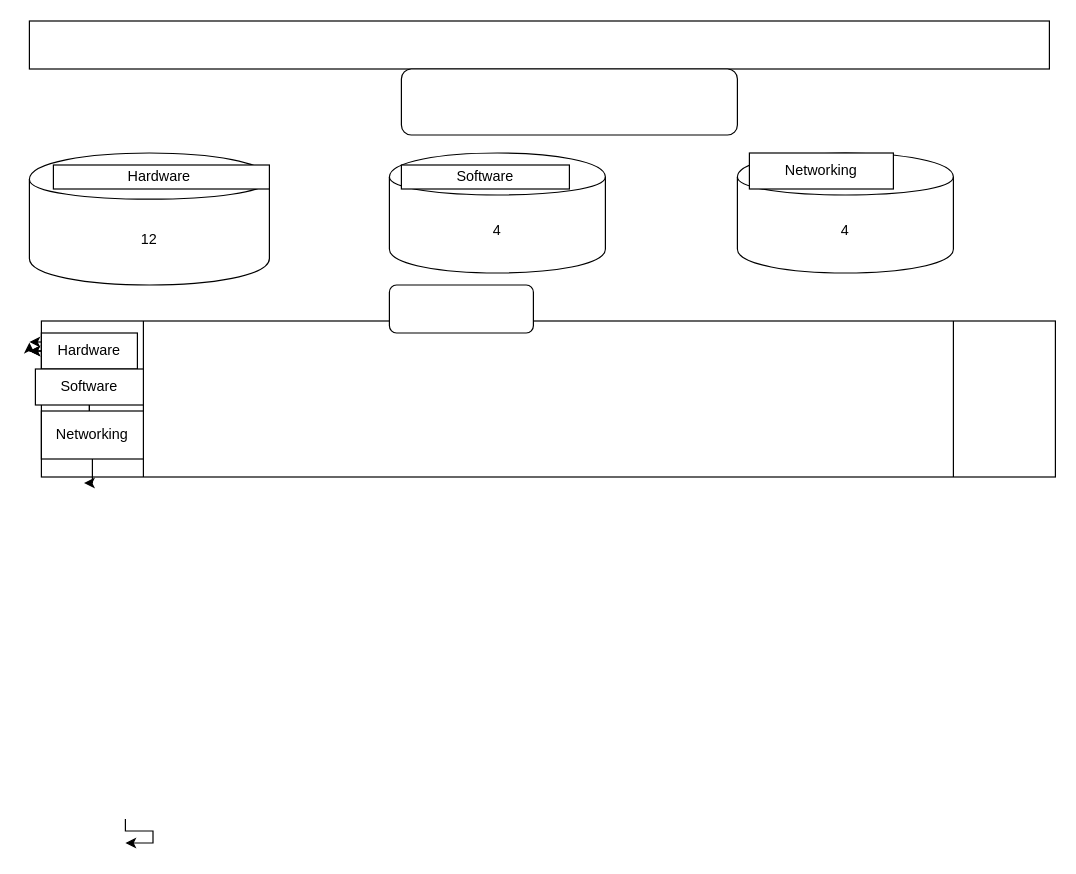
This 1076x874 diagram has some shape labels left out. Each missing label, with the box of its shape:
Description: (388, 284, 533, 333)
Research Goal Cards: (28, 20, 1049, 69)
Technology Innovation card : Hardware: (400, 68, 737, 135)
